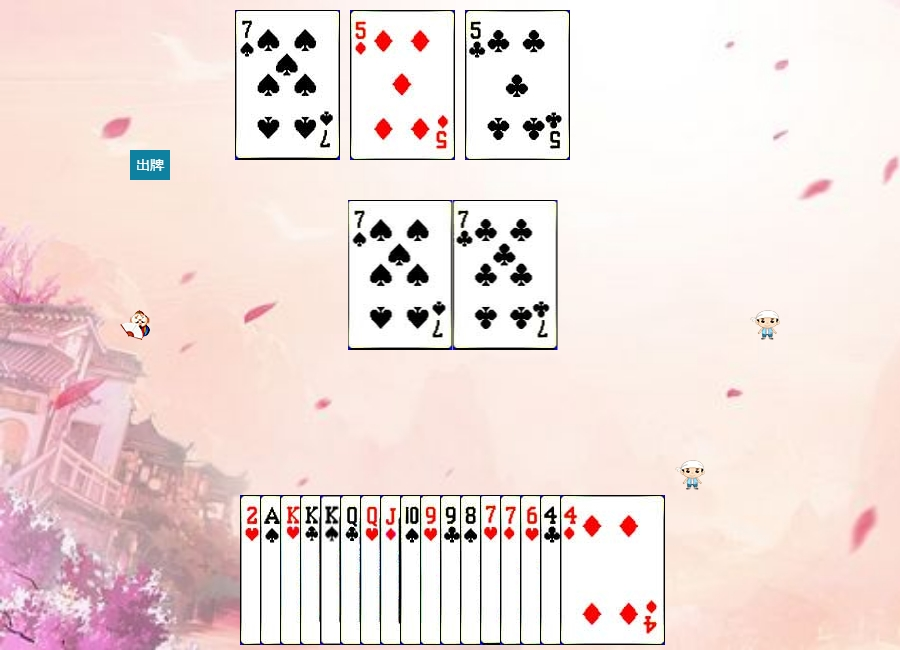10~4: (400, 495, 505, 645)
11~1: (380, 495, 485, 645)
12~2: (340, 495, 445, 645)
12~3: (360, 495, 465, 645)
13~2: (300, 495, 405, 645)
13~3: (280, 495, 385, 645)
13~4: (320, 495, 425, 645)
14~4: (260, 495, 365, 645)
15~3: (240, 495, 345, 645)
4~1: (560, 495, 665, 645)
4~2: (540, 495, 645, 645)
5~1: (350, 10, 455, 160)
5~2: (465, 10, 570, 160)
6~3: (520, 495, 625, 645)
7~1: (500, 495, 605, 645)
7~2: (453, 200, 558, 350)
7~3: (480, 495, 585, 645)
7~4: (235, 10, 340, 160), (348, 200, 453, 350)
8~4: (460, 495, 565, 645)
9~2: (440, 495, 545, 645)
9~3: (420, 495, 525, 645)
